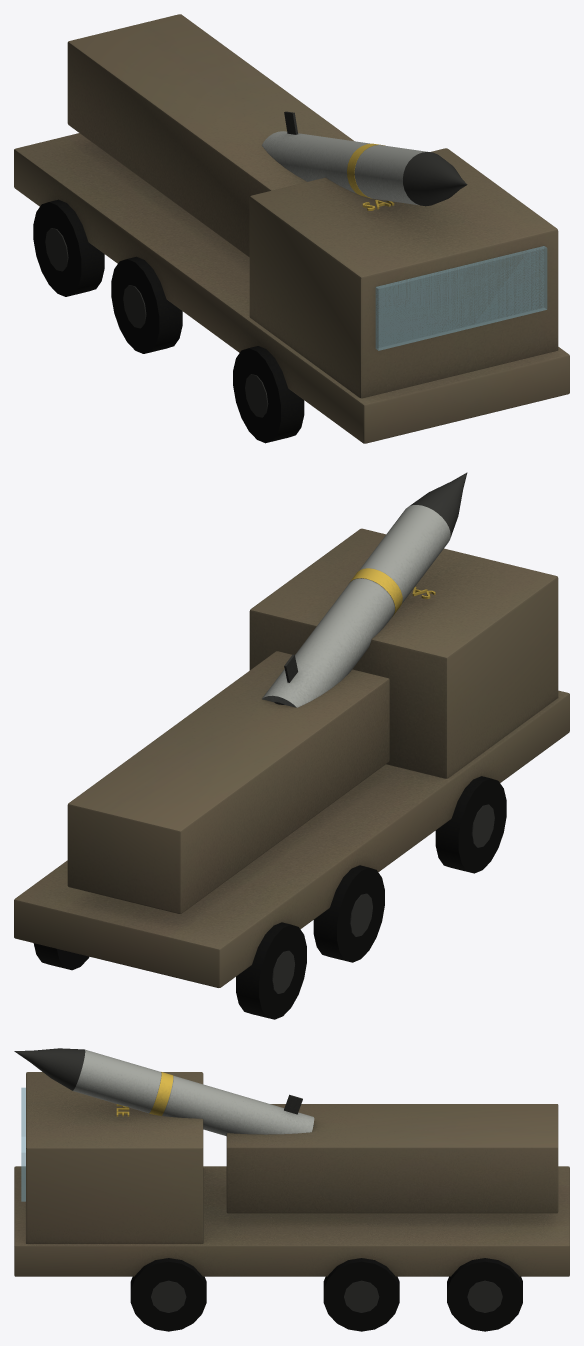
File: sphere-atacms-block-i.glb
3 views of the same model, one above another, from view 1: azimuth 30°, elevation 25°; view 2: azimuth 150°, elevation 25°; view 3: azimuth 270°, elevation 25° (orthographic). The views are drawn at different scales.
Parts seen in each view (by area): view 1: chassis, wind; view 2: chassis; view 3: chassis, wind.
Part boxes in pixels (<box>): chassis: <box>14,14,569,443</box>; wind: <box>375,246,547,350</box>; chassis: <box>14,472,569,1019</box>; chassis: <box>14,1048,569,1331</box>; wind: <box>21,1087,25,1201</box>.
Bounding box in the file's own units: 2.7 × 3.4 × 7.2.
2 materials, 1 textured.
